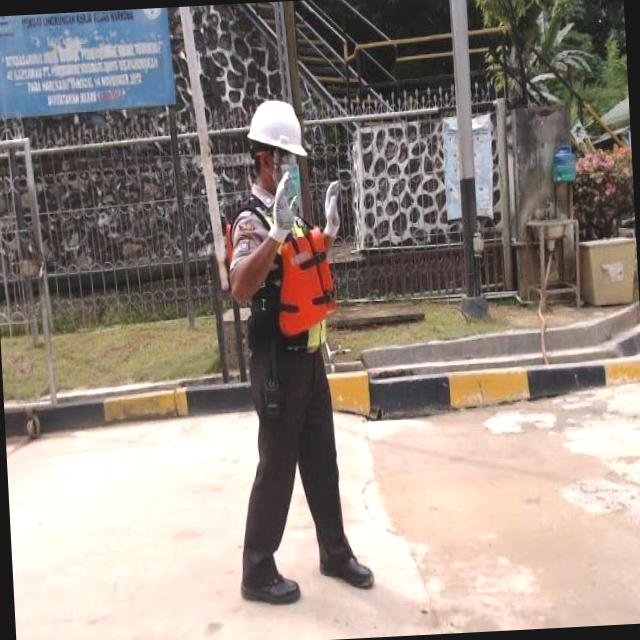vest: (218, 182, 345, 351)
